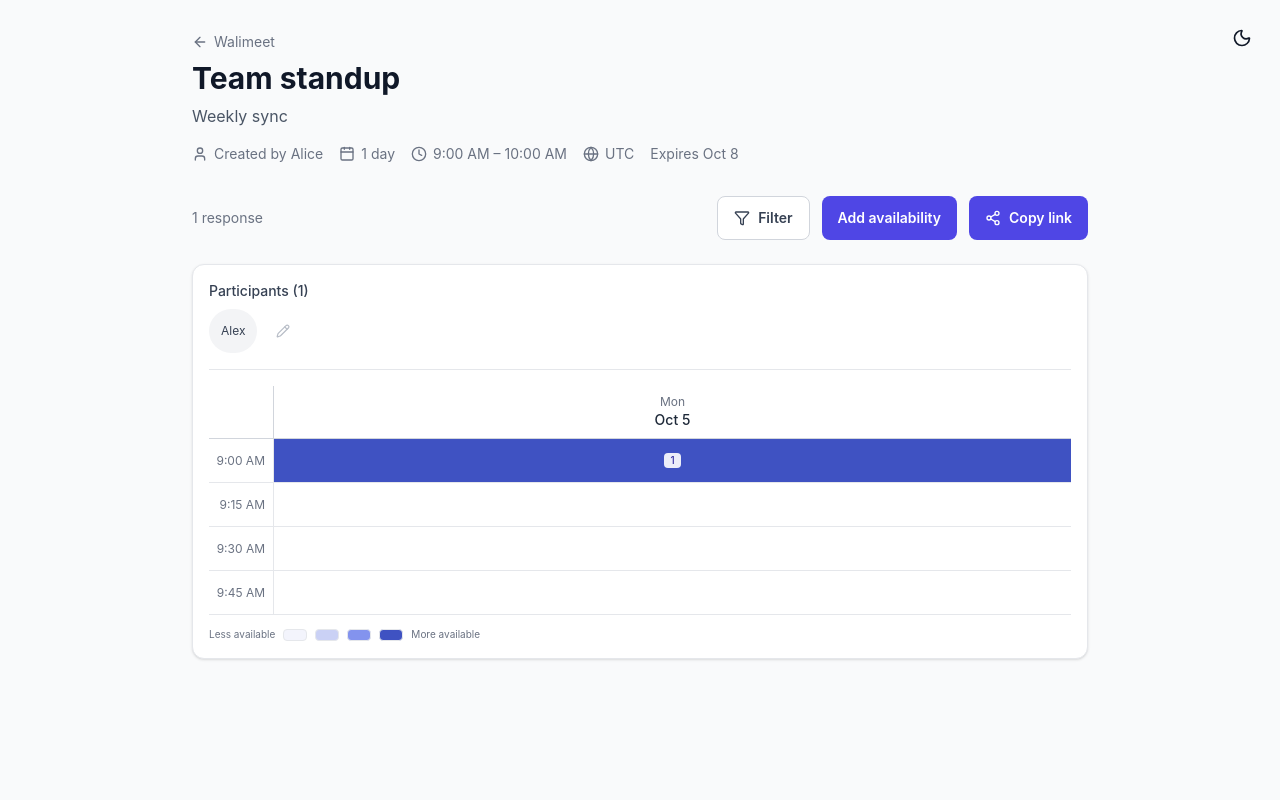
Test: submit flow — name collision prompt › shows the prompt instead of PUTting when the name belongs to someone else
The image size is (1280, 800).
Check: the heading "Team standup" is shown, box [192,60,400,96]
Click the button "Add availability" at [889, 218], box [822,196,957,240]
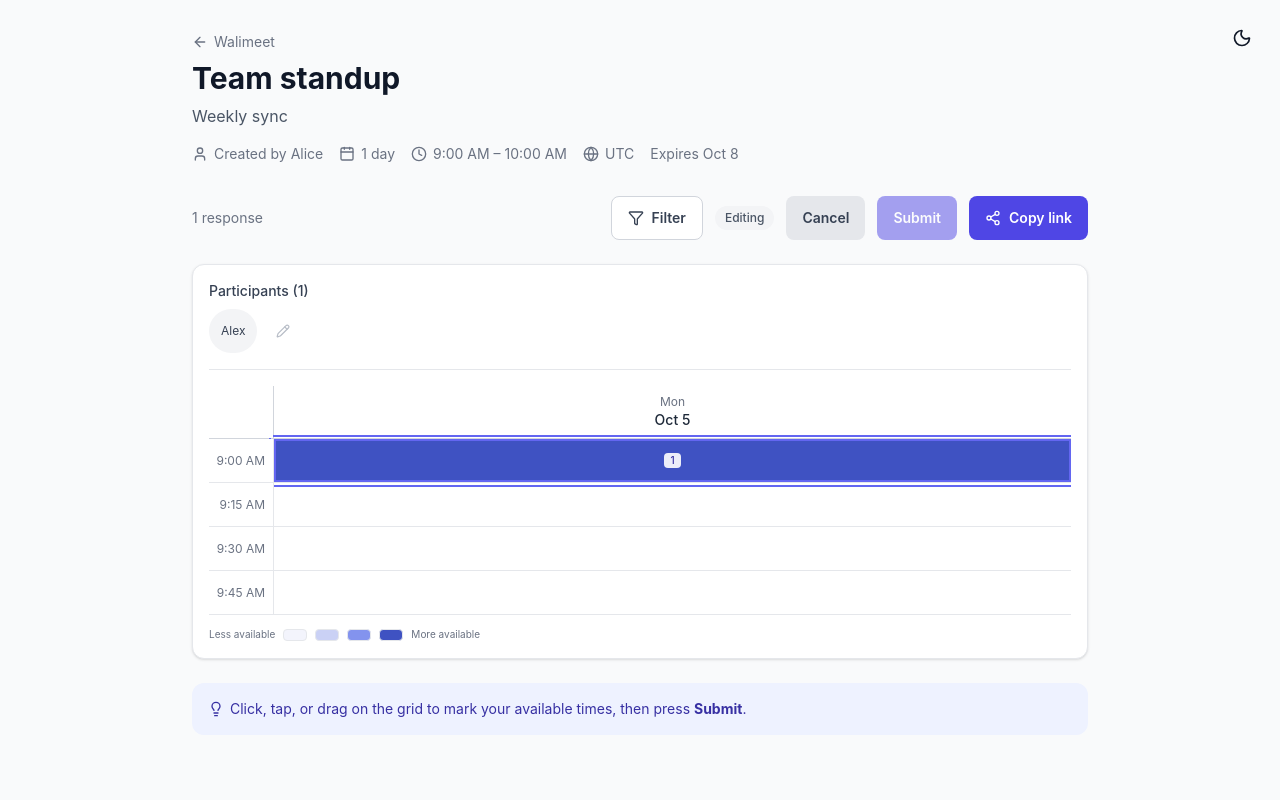
Type keys " "
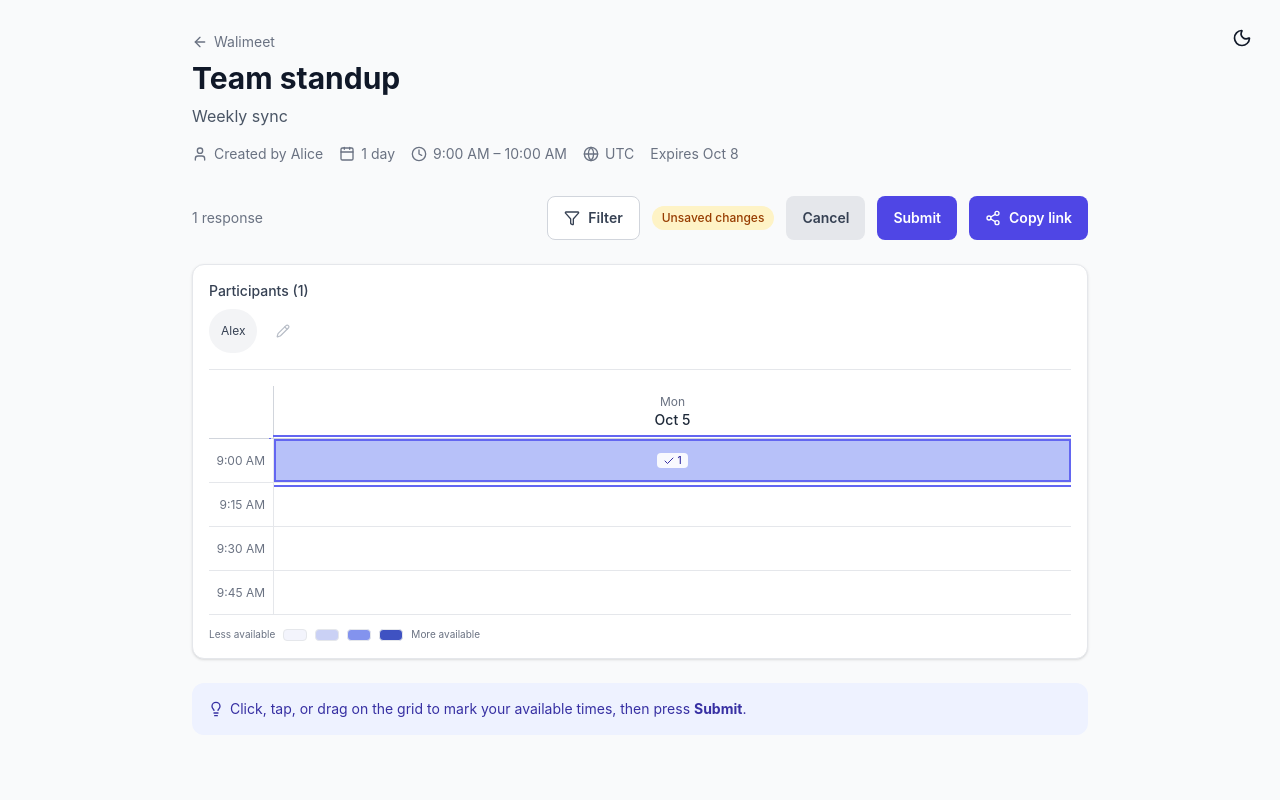
Click the button "Submit" at [917, 218], box [877,196,957,240]
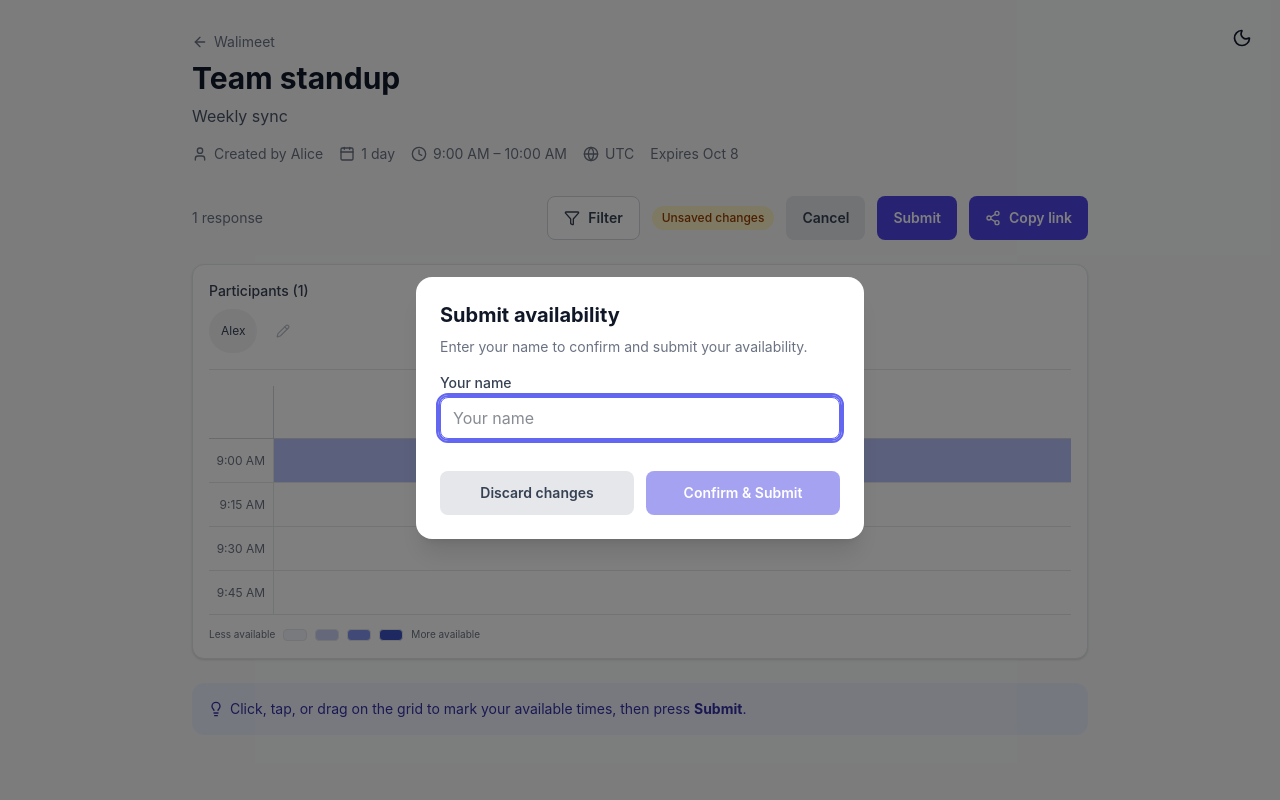
Check: the dialog is shown, box [416,277,864,539]
Type "Alex" into the field labelled "Your name" at [640, 418], box [440,397,840,439]
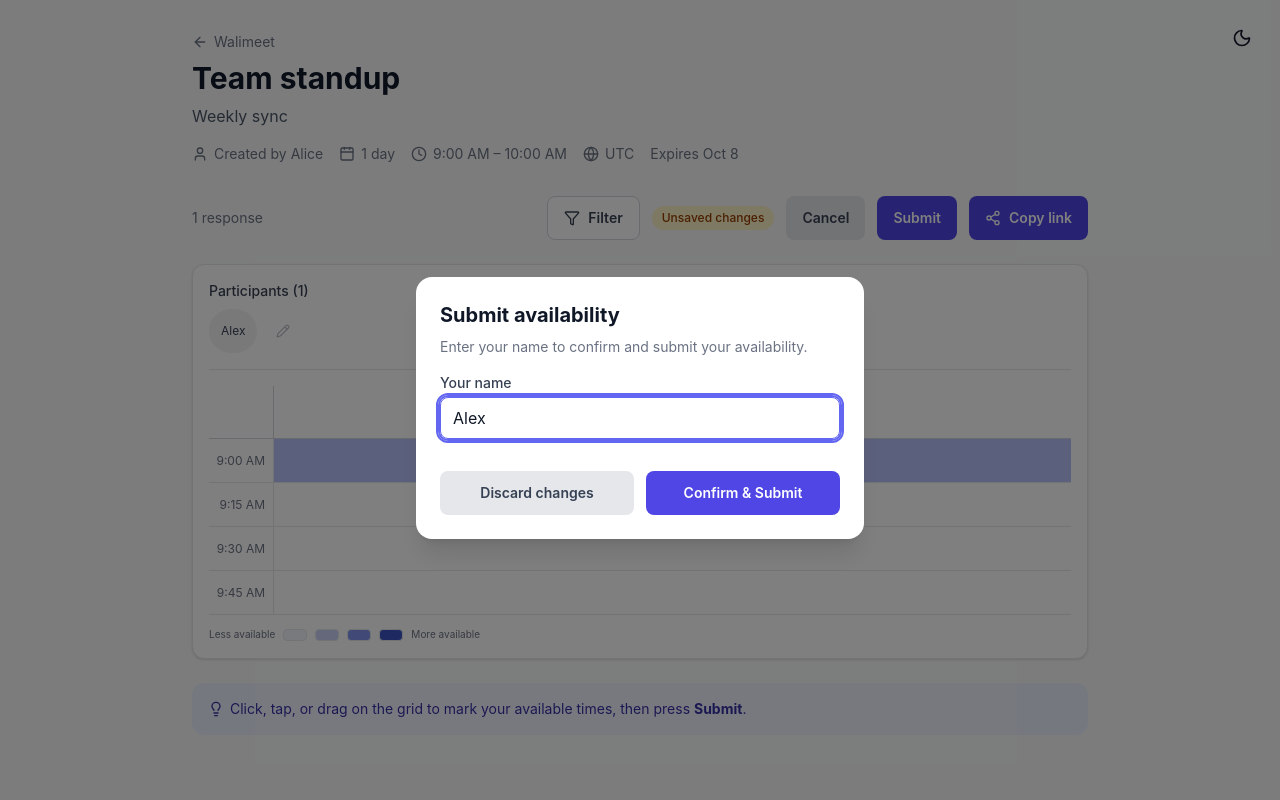
Click the button "Confirm & Submit" at [743, 493], box [646,471,840,515]
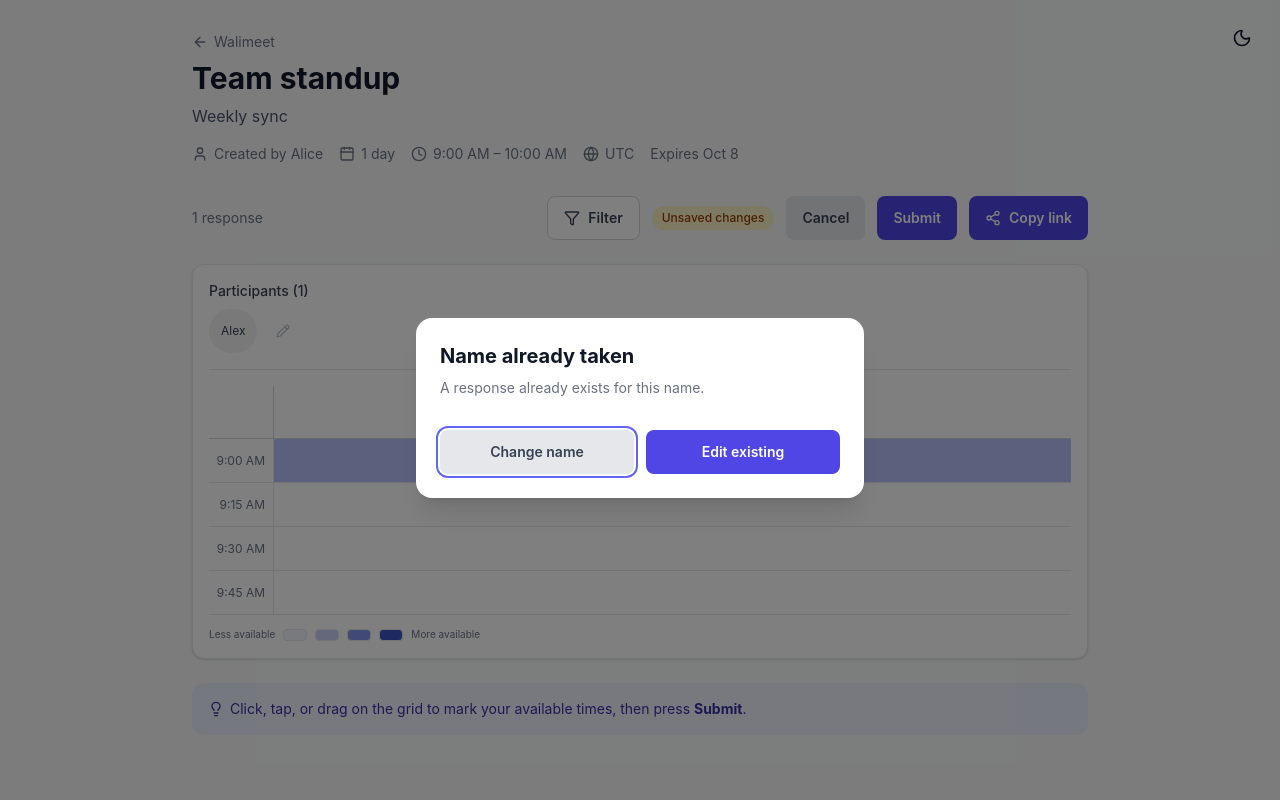
Check: the text "A response already exists for this name." is shown, box [440,379,704,396]
Check: the button "Change name" is shown, box [440,430,634,474]
Check: the button "Edit existing" is shown, box [646,430,840,474]
